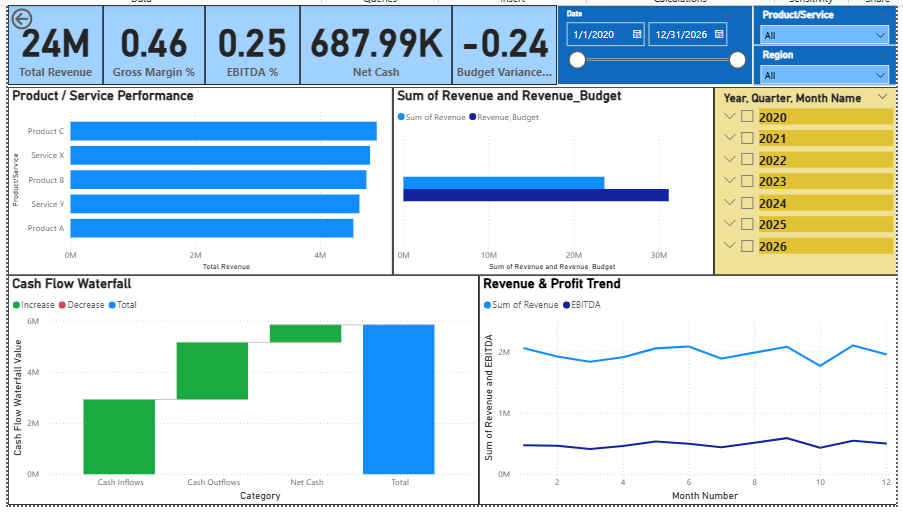

Layout of this report page (visuals, bound fields, positions):
{"tool":"powerbi","page":{"name":"Dashboard","canvas":[1280,720],"ordinal":0},"visuals":[{"type":"card","fields":{"Values":["Fact_Financials.Total Revenue"]},"box":[9.9,93.5,198.4,103.5],"z":0},{"type":"card","fields":{"Values":["Fact_Financials.Net Cash"]},"box":[612,93.5,198.4,103.5],"z":1000},{"type":"lineChart","title":"Revenue & Profit Trend","fields":{"Y":["Fact_Financials.Total Revenue"],"Category":["Date_Table.Date Hierarchy.Year","Date_Table.Date Hierarchy.Month Name","Date_Table.Date Hierarchy.Quarter"],"Y2":["Fact_Financials.Gross Profit"]},"box":[415.3,206.9,442.2,240.9],"z":2000},{"type":"clusteredBarChart","title":"Product / Service Performance","fields":{"Category":["Table1.Product/Service"],"Y":["Fact_Financials.Total Revenue"]},"box":[415.3,456.4,286.3,250.9],"z":3000},{"type":"waterfallChart","title":"Cash Flow Waterfall","fields":{"Category":["CashFlow_Category.Category"],"Y":["CashFlow_Category.Cash Flow Waterfall Value"]},"box":[706,456.4,272.1,250.9],"z":4000},{"type":"card","fields":{"Values":["Fact_Financials.Budget Variance %"]},"box":[817.8,93.5,189.9,103.5],"z":5000},{"type":"slicer","fields":{"Values":["Date_Table.Year","Date_Table.Quarter","Date_Table.Month Name"]},"box":[1016.2,9.9,253.7,76.5],"z":6000},{"type":"slicer","fields":{"Values":["Fact_Financials.Region"]},"box":[867.4,9.9,140.3,75.1],"z":7000},{"type":"slicer","fields":{"Values":["Fact_Financials.Product/Service"]},"box":[680.3,9.9,177.2,76.5],"z":8000},{"type":"slicer","fields":{"Values":["Date_Table.Date"]},"box":[1016.2,93.5,253.7,103.5],"z":10000},{"type":"textbox","box":[9.9,9.9,657.6,75.1],"z":11000},{"type":"clusteredBarChart","title":"Profitability by Product / Service","fields":{"Y":["Sum(Fact_Financials.Revenue)","Fact_Financials.Gross Profit"],"Category":["Fact_Financials.Product/Service"]},"box":[9.9,206.9,395.4,240.9],"z":12000},{"type":"donutChart","title":"EBITDA Contribution by Product/Service","fields":{"Category":["Fact_Financials.Product/Service"],"Y":["Fact_Financials.EBITDA"]},"box":[867.4,206.9,402.5,240.9],"z":13000},{"type":"card","fields":{"Values":["Fact_Financials.Gross Margin %"]},"box":[212.6,93.5,192.8,103.5],"z":14000},{"type":"card","fields":{"Values":["Fact_Financials.EBITDA %"]},"box":[415.3,93.5,189.9,103.5],"z":15000},{"type":"clusteredColumnChart","title":"Budget vs Actual Variance %","fields":{"Category":["Date_Table.Year-Month"],"Y":["Fact_Financials.Total Revenue","Fact_Financials.Revenue_Budget"]},"box":[9.9,456.4,395.4,250.9],"z":16000},{"type":"barChart","title":"Receivables Aging","fields":{"Category":["Fact_Financials.Receivable Bucket"],"Y":["Fact_Financials.Total Revenue"]},"box":[985,456.4,284.9,250.9],"z":17000}]}

Visuals, with their boxes on the page's 1280x720 design canvas (x1, y1, x2, y2). These are canvas units, not pixel positions in the 903x512 screenshot, which may show the page scaled, cropped or inside an application window:
card - Fact_Financials.Total Revenue: l=10, t=94, r=208, b=197
card - Fact_Financials.Net Cash: l=612, t=94, r=810, b=197
"Revenue & Profit Trend" lineChart: l=415, t=207, r=858, b=448
"Product / Service Performance" clusteredBarChart: l=415, t=456, r=702, b=707
"Cash Flow Waterfall" waterfallChart: l=706, t=456, r=978, b=707
card - Fact_Financials.Budget Variance %: l=818, t=94, r=1008, b=197
slicer - Date_Table.Year x Date_Table.Quarter: l=1016, t=10, r=1270, b=86
slicer - Fact_Financials.Region: l=867, t=10, r=1008, b=85
slicer - Fact_Financials.Product/Service: l=680, t=10, r=858, b=86
slicer - Date_Table.Date: l=1016, t=94, r=1270, b=197
textbox: l=10, t=10, r=668, b=85
"Profitability by Product / Service" clusteredBarChart: l=10, t=207, r=405, b=448
"EBITDA Contribution by Product/Service" donutChart: l=867, t=207, r=1270, b=448
card - Fact_Financials.Gross Margin %: l=213, t=94, r=405, b=197
card - Fact_Financials.EBITDA %: l=415, t=94, r=605, b=197
"Budget vs Actual Variance %" clusteredColumnChart: l=10, t=456, r=405, b=707
"Receivables Aging" barChart: l=985, t=456, r=1270, b=707
